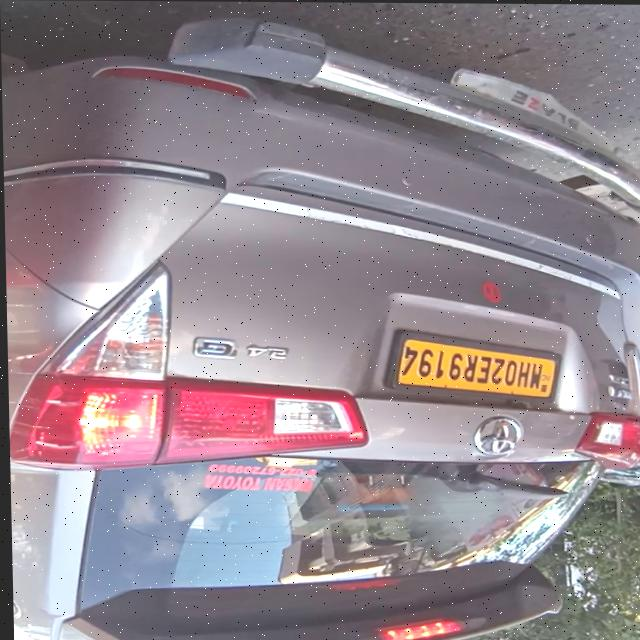plate: (378, 325, 561, 399)
